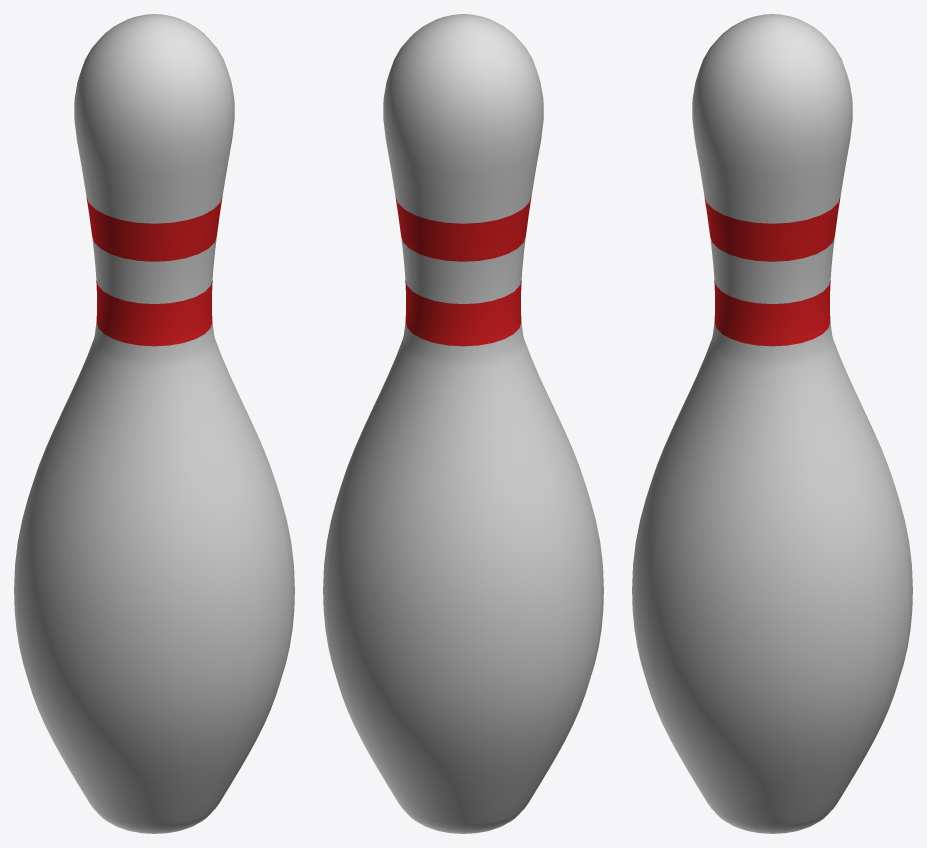
3 renders of one model, left to right at view 1: azimuth 30°, elevation 25°; view 2: azimuth 150°, elevation 25°; view 3: azimuth 270°, elevation 25°, orthographic.
Visible parts, largest first — view 1: Bowling Pin; view 2: Bowling Pin; view 3: Bowling Pin.
Part boxes in pixels (bbox=[...]): Bowling Pin: bbox=[14, 14, 294, 833]; Bowling Pin: bbox=[323, 14, 603, 833]; Bowling Pin: bbox=[632, 14, 912, 833].
Size of the model in its own units: 12.1 by 38 by 12.1.
